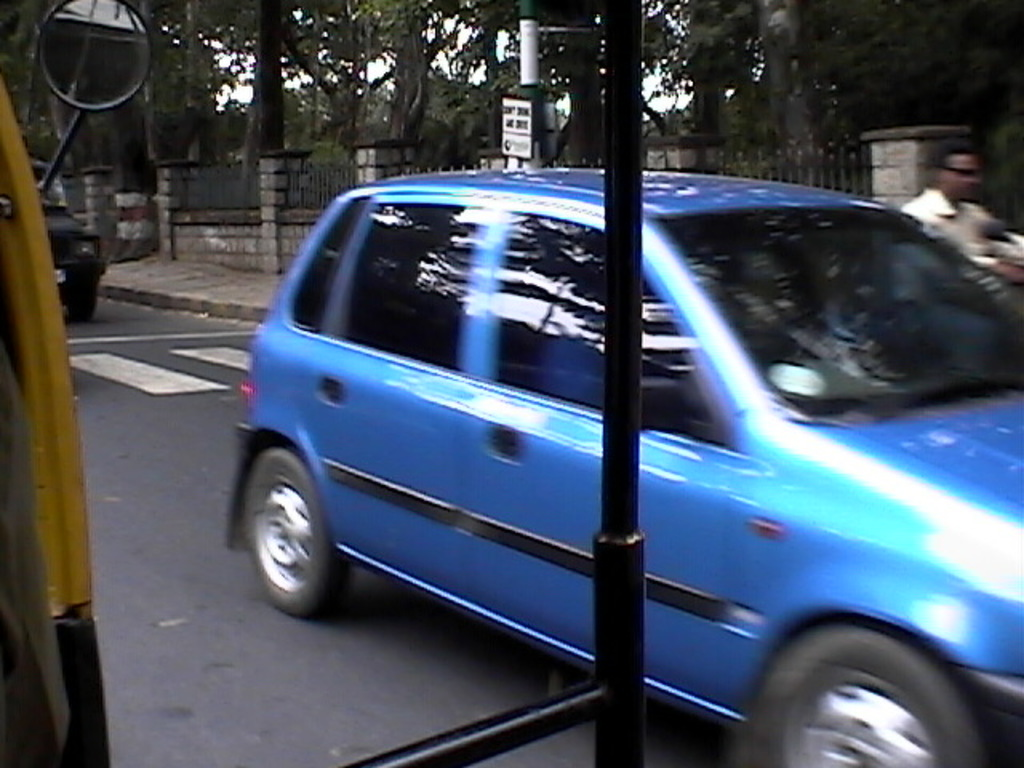Car: (224, 168, 1024, 767), (22, 152, 104, 322)
